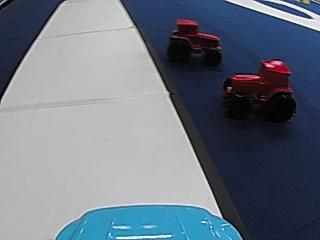Tracktor: (219, 55, 297, 122), (166, 15, 222, 66)
